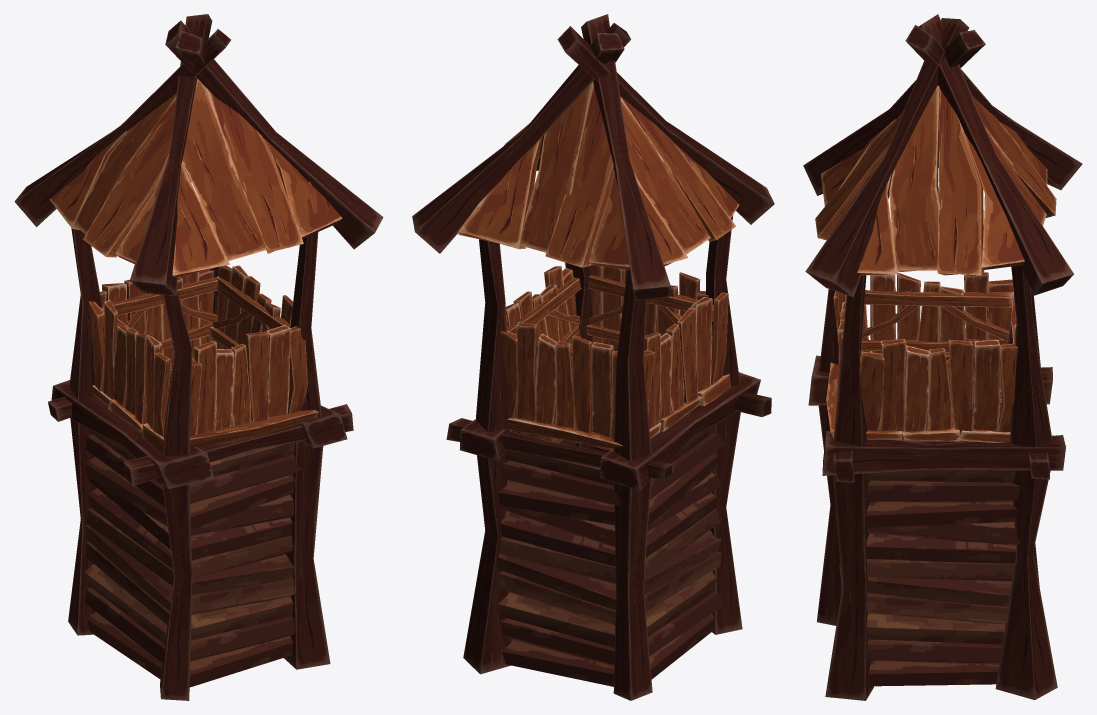
File: SM_PROP_watchtower_wood_02_small.fbx
3 renders of one model, left to right at view 1: azimuth 30°, elevation 25°; view 2: azimuth 150°, elevation 25°; view 3: azimuth 270°, elevation 25°, orthographic. The views are drawn at different scales.
Visible parts, largest first — view 1: SM_PROP_watchtower_wood_02_small; view 2: SM_PROP_watchtower_wood_02_small; view 3: SM_PROP_watchtower_wood_02_small.
Part boxes in pixels (x1=…): SM_PROP_watchtower_wood_02_small: x1=14, y1=14, x2=383, y2=700; SM_PROP_watchtower_wood_02_small: x1=412, y1=14, x2=774, y2=700; SM_PROP_watchtower_wood_02_small: x1=803, y1=14, x2=1082, y2=700.
Size of the model in its own units: 501 by 1130 by 448.
